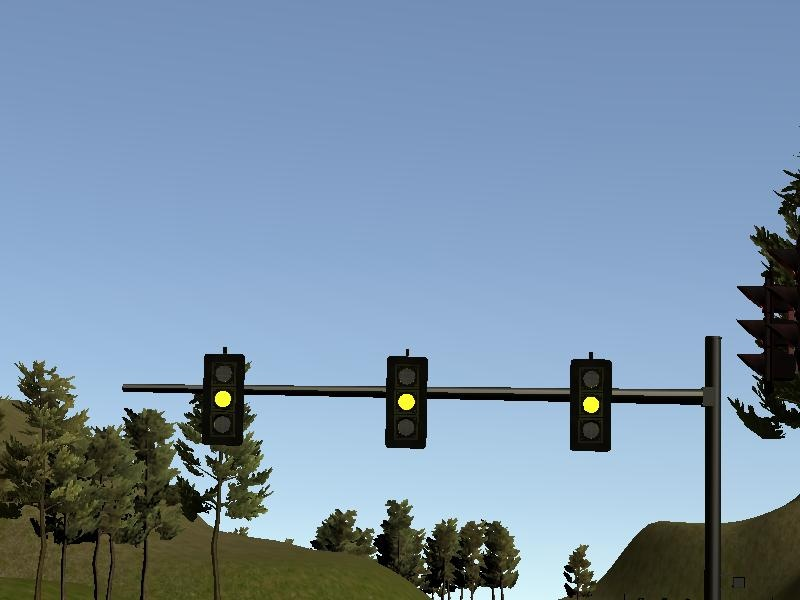YELLOW: (568, 358, 611, 453), (384, 356, 427, 451), (202, 353, 245, 448)
